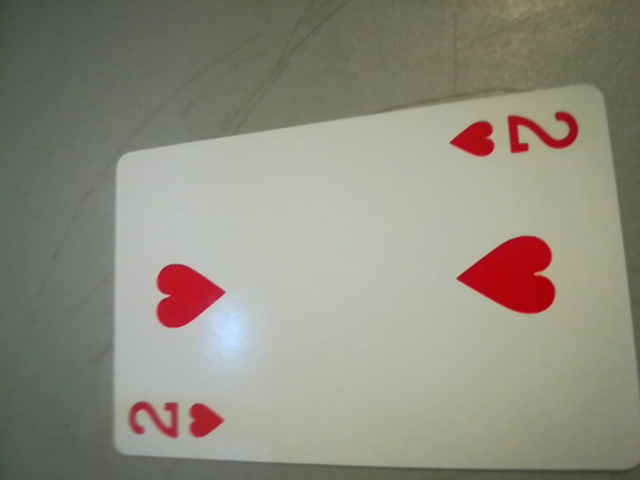hx 2: (459, 104, 591, 162)
